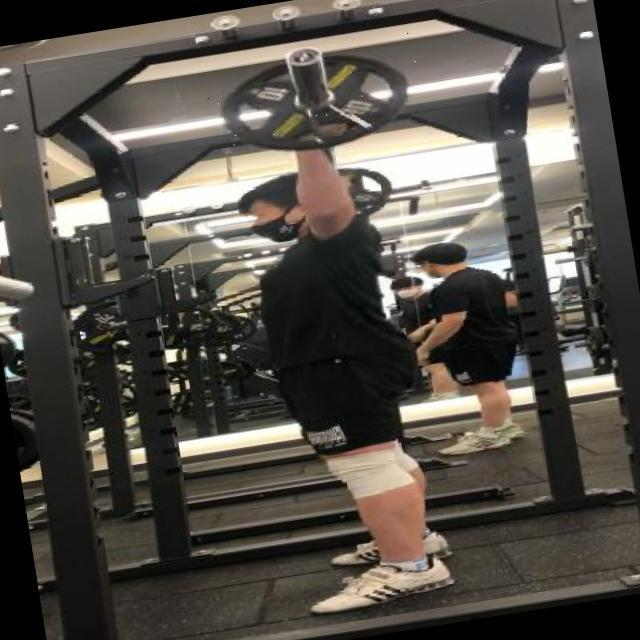barbell: (201, 28, 432, 173)
